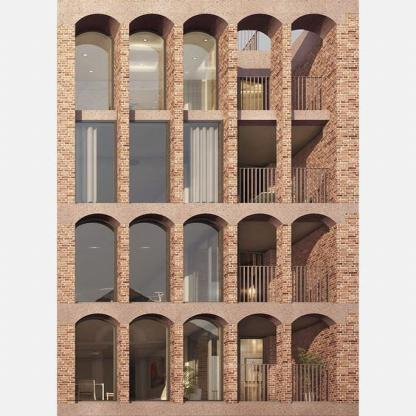Balcony: (238, 364, 330, 402), (238, 267, 330, 303), (238, 168, 330, 203), (238, 76, 330, 110)
Building Outline: (55, 0, 359, 416)
Door: (240, 339, 263, 402), (240, 254, 263, 303), (240, 167, 263, 203), (240, 79, 263, 110)
Facade: (55, 0, 360, 416)
Floor Slab: (57, 303, 358, 313), (58, 110, 359, 120), (58, 204, 359, 214)
Glass Wall: (179, 29, 218, 111), (181, 319, 220, 401), (75, 319, 114, 401), (128, 319, 167, 401), (181, 220, 220, 302), (75, 220, 114, 302), (128, 220, 167, 302), (76, 121, 115, 202), (182, 121, 221, 202), (129, 121, 168, 202), (73, 29, 111, 111), (126, 29, 164, 111)
Window: (291, 14, 336, 110), (75, 14, 120, 110), (183, 14, 228, 110), (129, 14, 174, 110), (238, 14, 282, 110), (291, 213, 336, 303), (75, 213, 120, 303), (183, 213, 228, 303), (129, 213, 174, 303), (238, 213, 282, 303), (291, 314, 336, 401), (75, 314, 120, 401), (183, 314, 228, 401), (129, 314, 174, 401), (238, 314, 282, 401), (292, 120, 337, 203), (238, 120, 283, 203)
